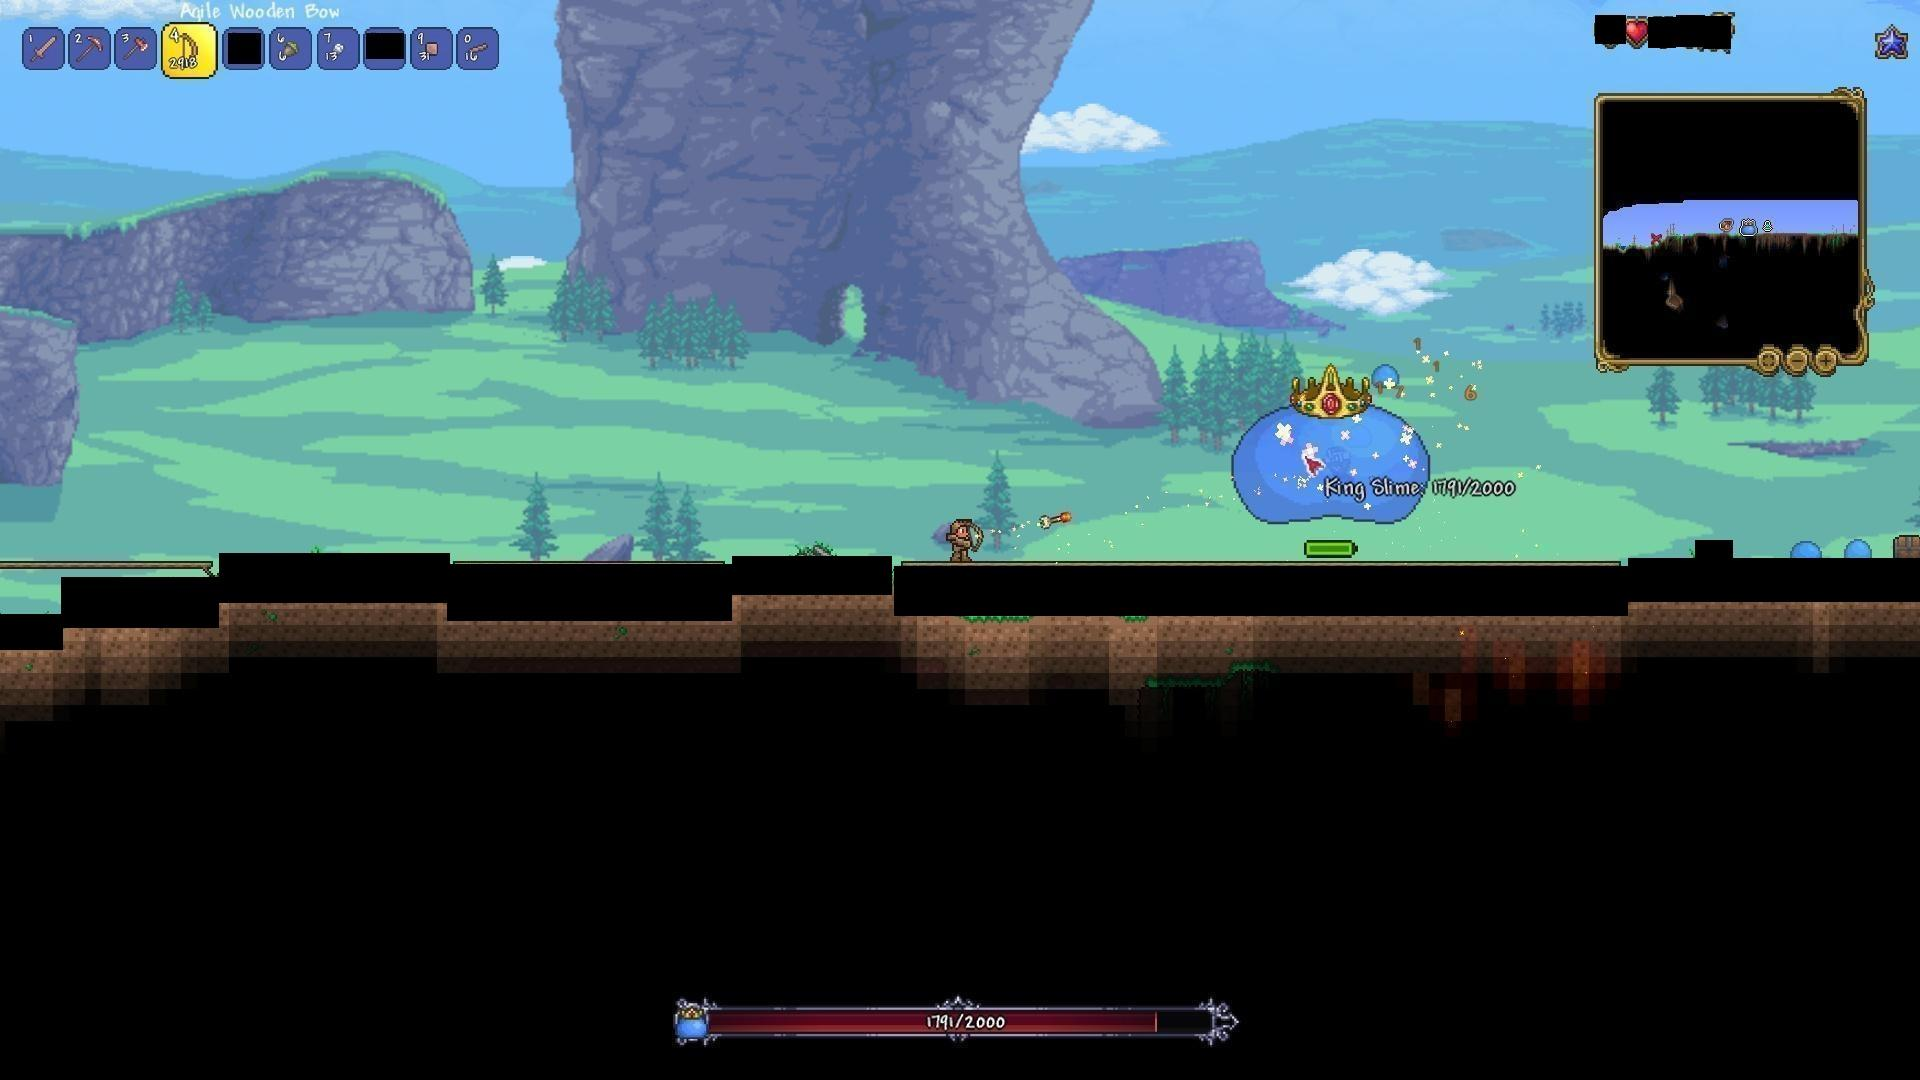heart: (1625, 17, 1651, 46)
slime: (1789, 537, 1824, 567), (1841, 535, 1875, 563), (1370, 364, 1400, 386)
